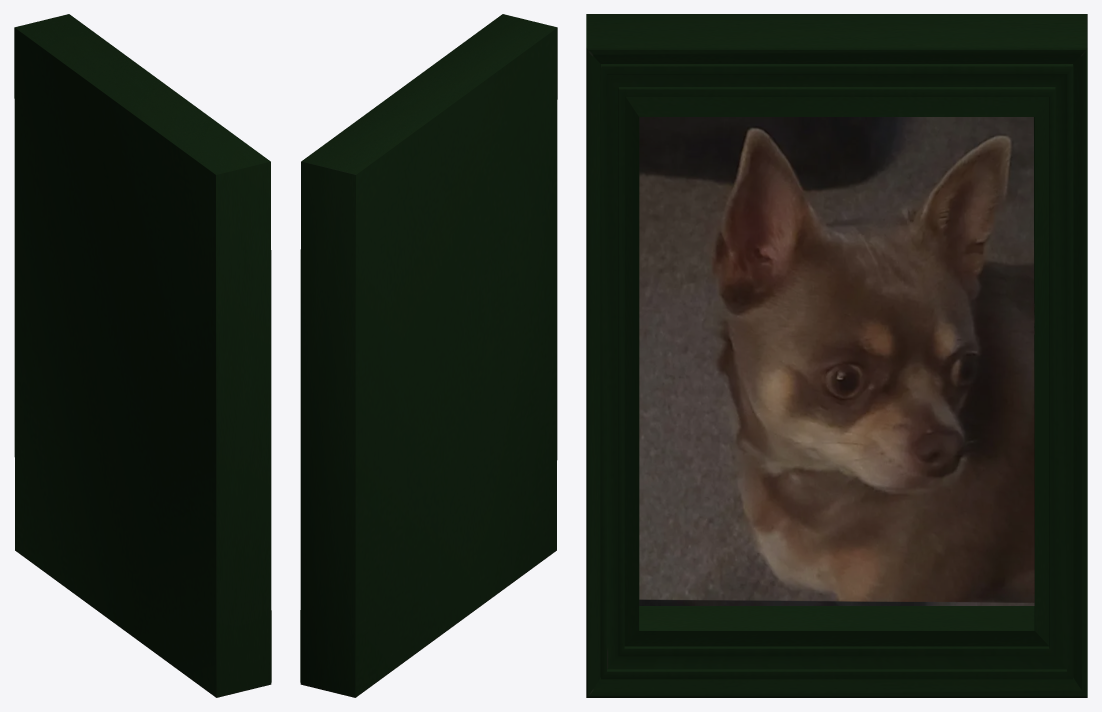
File: taylerdogpictureframe.fbx
3 views of the same model, side by side, from view 1: azimuth 30°, elevation 25°; view 2: azimuth 150°, elevation 25°; view 3: azimuth 270°, elevation 25° (orthographic). The views are drawn at different scales.
Visible parts, largest first — view 1: Cube.012; view 2: Cube.012; view 3: Cube.012.
Boxes of the visible parts, x1=… form: Cube.012: x1=14, y1=14, x2=271, y2=697; Cube.012: x1=300, y1=14, x2=557, y2=697; Cube.012: x1=586, y1=14, x2=1087, y2=697.
Size of the model in its own units: 42.27 by 368 by 257.
